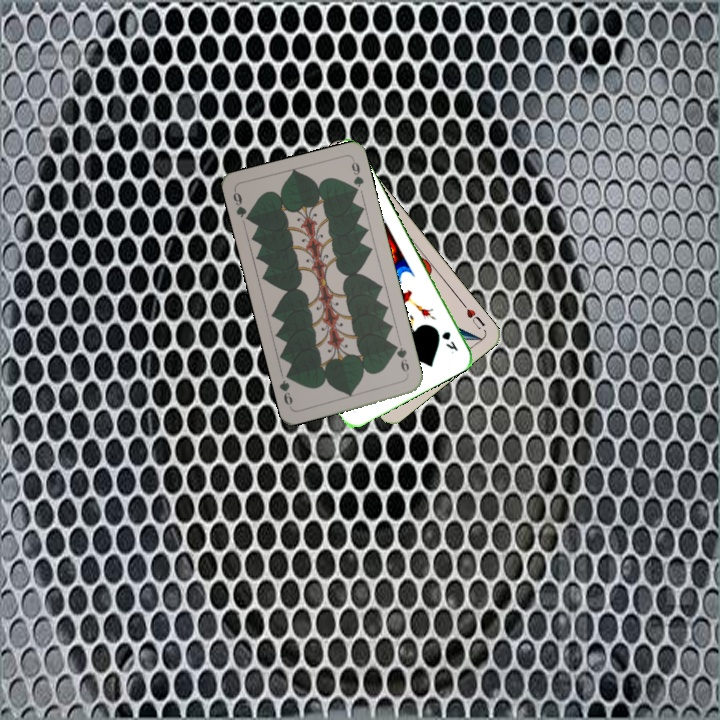G9: (229, 186, 254, 225), (390, 341, 412, 379)
GK: (437, 327, 460, 356)
HU: (458, 299, 488, 332)
